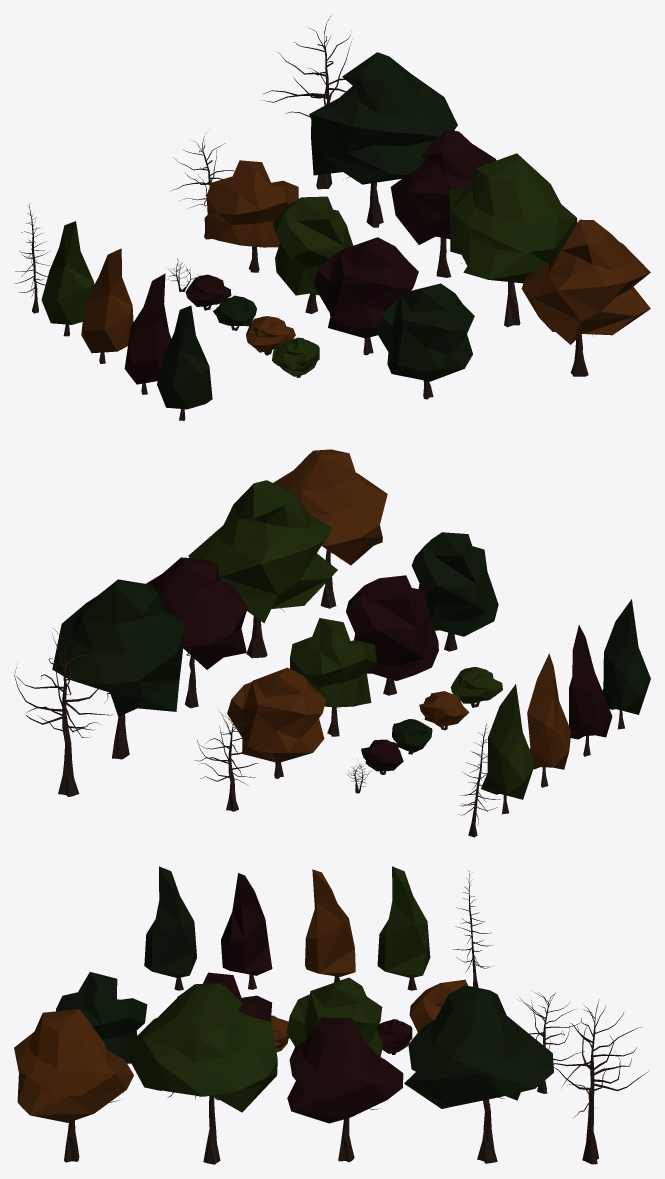
File: uploads_files_689798_low_poly_trees_by_doubleagent.FBX
3 renders of one model, top to bottom at view 1: azimuth 30°, elevation 25°; view 2: azimuth 150°, elevation 25°; view 3: azimuth 270°, elevation 25°, orthographic.
Visible parts, largest first — view 1: LOW_POLY_Tree_2_005, LOW_POLY_Tree_2_008, LOW_POLY_Tree_2_006, LOW_POLY_Tree_1_007, LOW_POLY_Tree_1_008, LOW_POLY_Tree_2_007, LOW_POLY_Tree_1_005, LOW_POLY_Tree_1_006, LOW_POLY_Tree_3_006, LOW_POLY_Tree_3_008, LOW_POLY_Tree_3_005, LOW_POLY_Tree_3_007 (+6 smaller); view 2: LOW_POLY_Tree_2_005, LOW_POLY_Tree_2_008, LOW_POLY_Tree_2_006, LOW_POLY_Tree_2_007, LOW_POLY_Tree_1_008, LOW_POLY_Tree_1_005, LOW_POLY_Tree_1_007, LOW_POLY_Tree_1_006, LOW_POLY_Tree_3_005, LOW_POLY_Tree_3_008, LOW_POLY_Tree_3_006, LOW_POLY_Tree_3_007 (+7 smaller); view 3: LOW_POLY_Tree_2_008, LOW_POLY_Tree_2_005, LOW_POLY_Tree_2_006, LOW_POLY_Tree_2_007, LOW_POLY_Tree_3_005, LOW_POLY_Tree_3_008, LOW_POLY_Tree_1_006, LOW_POLY_Tree_1_007, LOW_POLY_Tree_3_006, LOW_POLY_Tree_3_007, LOW_POLY_Tree_2_009, LOW_POLY_Tree_1_005 (+5 smaller).
Part boxes in pixels (x1,y1,x2,y2): LOW_POLY_Tree_2_005: (309, 52, 457, 227); LOW_POLY_Tree_2_008: (449, 153, 577, 327); LOW_POLY_Tree_2_006: (521, 219, 650, 376); LOW_POLY_Tree_1_007: (376, 283, 474, 399); LOW_POLY_Tree_1_008: (313, 237, 418, 355); LOW_POLY_Tree_2_007: (390, 129, 496, 277); LOW_POLY_Tree_1_005: (204, 160, 298, 272); LOW_POLY_Tree_1_006: (273, 196, 353, 313); LOW_POLY_Tree_3_006: (81, 248, 133, 363); LOW_POLY_Tree_3_008: (157, 305, 212, 420); LOW_POLY_Tree_3_005: (41, 221, 94, 336); LOW_POLY_Tree_3_007: (124, 273, 171, 394); LOW_POLY_Tree_2_005: (52, 579, 185, 759); LOW_POLY_Tree_2_008: (188, 480, 337, 658); LOW_POLY_Tree_2_006: (273, 449, 387, 608); LOW_POLY_Tree_2_007: (146, 557, 247, 708); LOW_POLY_Tree_1_008: (346, 575, 438, 695); LOW_POLY_Tree_1_005: (227, 667, 326, 778); LOW_POLY_Tree_1_007: (411, 532, 498, 651); LOW_POLY_Tree_1_006: (290, 618, 376, 736); LOW_POLY_Tree_3_005: (481, 684, 534, 814); LOW_POLY_Tree_3_008: (602, 599, 650, 729); LOW_POLY_Tree_3_006: (527, 653, 571, 787); LOW_POLY_Tree_3_007: (569, 625, 612, 756); LOW_POLY_Tree_2_008: (126, 983, 277, 1164); LOW_POLY_Tree_2_005: (404, 985, 553, 1163); LOW_POLY_Tree_2_006: (14, 1009, 133, 1162); LOW_POLY_Tree_2_007: (287, 1017, 403, 1162); LOW_POLY_Tree_3_005: (377, 866, 430, 990); LOW_POLY_Tree_3_008: (144, 866, 196, 990); LOW_POLY_Tree_1_006: (286, 977, 383, 1056); LOW_POLY_Tree_1_007: (56, 972, 147, 1063); LOW_POLY_Tree_3_006: (305, 869, 355, 982); LOW_POLY_Tree_3_007: (221, 873, 272, 989); LOW_POLY_Tree_2_009: (538, 999, 649, 1164); LOW_POLY_Tree_1_005: (409, 979, 467, 1032).
Bounding box in the file's own units: 906 × 340 × 1144.
